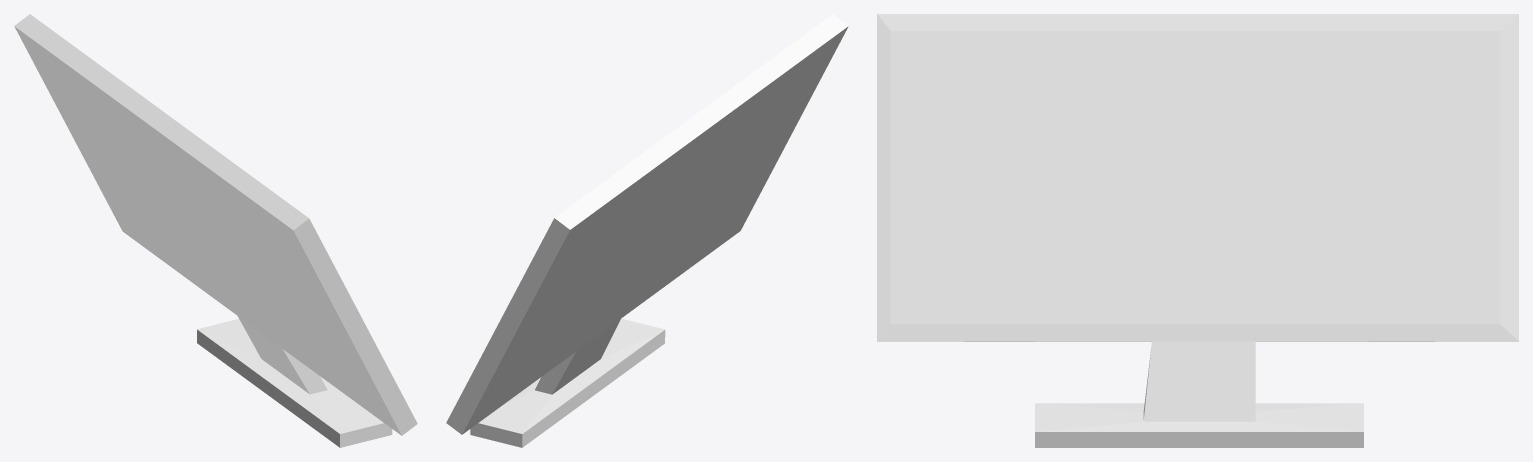
Rendered from BigMonitor.fbx.
3 views of the same model, side by side, from view 1: azimuth 30°, elevation 25°; view 2: azimuth 150°, elevation 25°; view 3: azimuth 270°, elevation 25° (orthographic). The views are drawn at different scales.
Visible parts, largest first — view 1: BigMonitor; view 2: BigMonitor; view 3: BigMonitor.
Boxes of the visible parts, bbox=[...] form: BigMonitor: bbox=[14, 14, 417, 447]; BigMonitor: bbox=[446, 14, 848, 447]; BigMonitor: bbox=[877, 14, 1518, 447].
Bounding box in the file's own units: 142 × 246 × 410.
